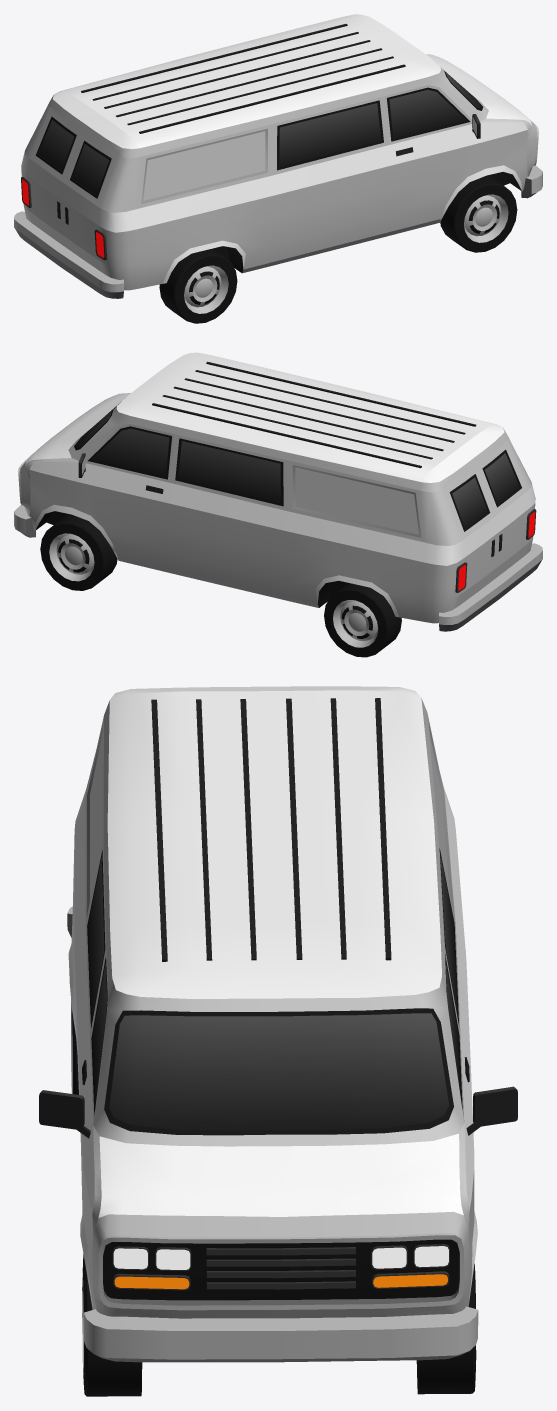
The model's file is Car_019.glb.
3 renders of one model, top to bottom at view 1: azimuth 30°, elevation 25°; view 2: azimuth 150°, elevation 25°; view 3: azimuth 270°, elevation 25°, orthographic. The views are drawn at different scales.
Parts seen in each view (by area): view 1: Car_019, wheel_0_Car_019_Wheel_1R, wheel_3_Car_019_Wheel_3R; view 2: Car_019, wheel_1_Car_019_Wheel_2L, wheel_2_Car_019_Wheel_3L; view 3: Car_019, wheel_0_Car_019_Wheel_1R, wheel_1_Car_019_Wheel_2L.
Part boxes in pixels (left/top/right/bottom): Car_019: left=14, top=14, right=542, bottom=298; wheel_0_Car_019_Wheel_1R: left=440, top=175, right=517, bottom=252; wheel_3_Car_019_Wheel_3R: left=159, top=248, right=237, bottom=323; Car_019: left=14, top=352, right=542, bottom=631; wheel_1_Car_019_Wheel_2L: left=40, top=514, right=117, bottom=590; wheel_2_Car_019_Wheel_3L: left=324, top=583, right=401, bottom=657; Car_019: left=39, top=686, right=517, bottom=1362; wheel_0_Car_019_Wheel_1R: left=82, top=1254, right=142, bottom=1396; wheel_1_Car_019_Wheel_2L: left=416, top=1264, right=476, bottom=1394.
Size of the model in its own units: 5 by 2 by 2.33.
Materials: 2 (2 with a texture image).
